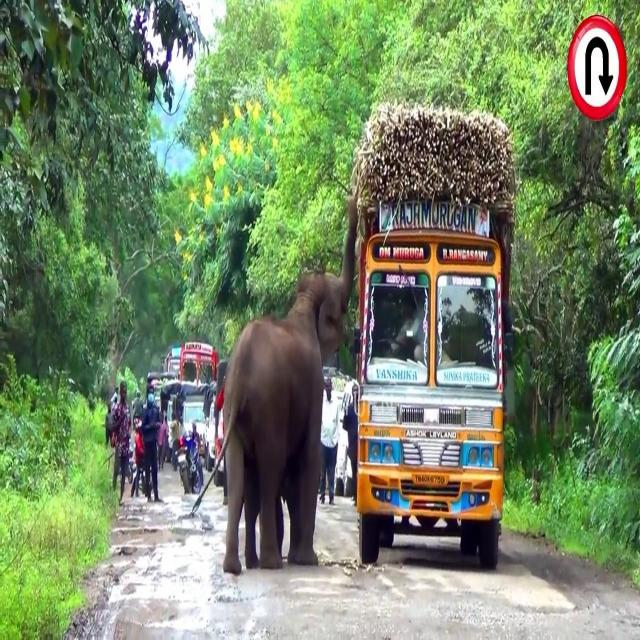Elephant: (216, 196, 358, 577)
